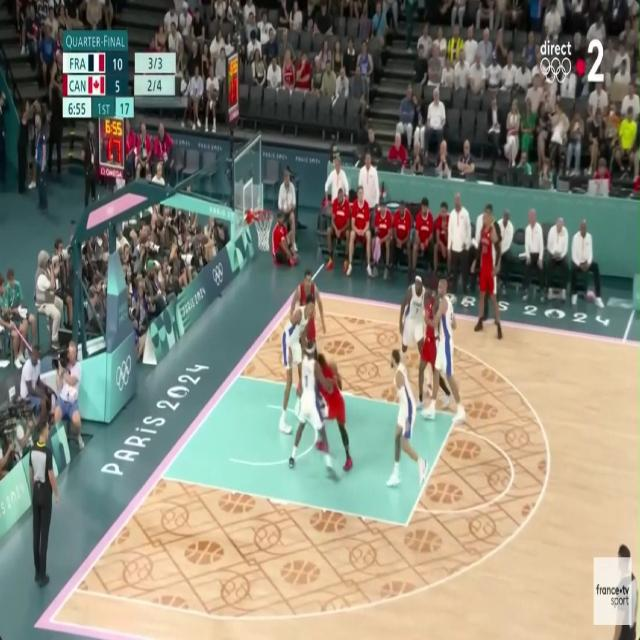ball_handler: (317, 349, 355, 477)
